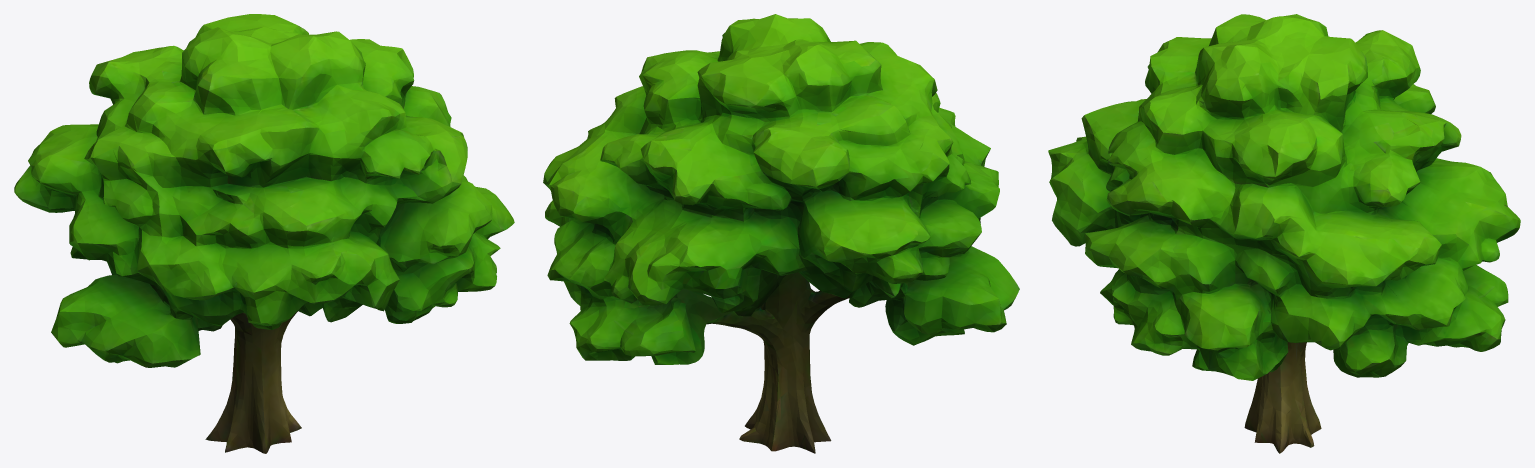
File: tree 3.glb
3 views of the same model, side by side, from view 1: azimuth 30°, elevation 25°; view 2: azimuth 150°, elevation 25°; view 3: azimuth 270°, elevation 25° (orthographic). The views are drawn at different scales.
Parts seen in each view (by area): view 1: world; view 2: world; view 3: world.
Part boxes in pixels (x1=…): world: x1=14, y1=14, x2=514, y2=453; world: x1=543, y1=14, x2=1019, y2=453; world: x1=1048, y1=14, x2=1520, y2=453.
Bounding box in the file's own units: 0.9948 × 0.8981 × 0.9527.
1 material, 1 textured.
